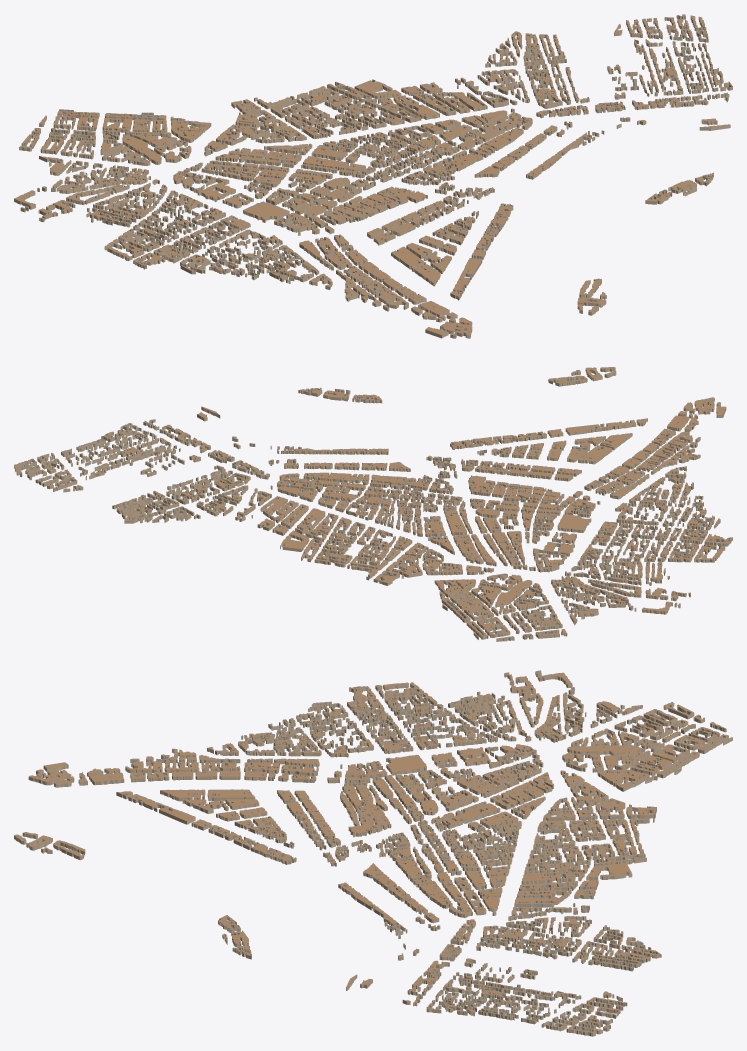
File: rotterdam-v1.glb
The picture shows the model from 3 angles, top to bottom: view 1: azimuth 30°, elevation 25°; view 2: azimuth 150°, elevation 25°; view 3: azimuth 270°, elevation 25°; orthographic projection. The views are drawn at different scales.
Visible parts, largest first — view 1: M0756, M0621, M0301, M0912, M0319, M0750, M0255, M0803, M0393, M0857, M0907, M0924; view 2: M0255, M0756, M0029, M0912, M0301, M0393, M0621, M0319, M0857, M0704; view 3: M0756, M0912, M0621, M0029, M0907, M0319, M0803, M0301, M0561, M0255, M0393, M0857 (+1 smaller).
Part boxes in pixels (x1,y1,x2,y2): M0756: [435, 92, 487, 113]; M0621: [191, 175, 235, 201]; M0301: [424, 152, 483, 177]; M0912: [171, 120, 211, 142]; M0319: [243, 201, 289, 222]; M0750: [89, 168, 148, 189]; M0255: [526, 132, 590, 179]; M0803: [393, 95, 439, 119]; M0393: [477, 127, 523, 155]; M0857: [216, 124, 257, 145]; M0907: [122, 134, 161, 164]; M0924: [354, 80, 401, 99]; M0255: [281, 446, 388, 454]; M0756: [260, 496, 298, 521]; M0029: [565, 420, 636, 435]; M0912: [434, 579, 475, 597]; M0301: [371, 474, 429, 490]; M0393: [303, 472, 363, 483]; M0621: [533, 542, 574, 564]; M0319: [557, 514, 591, 532]; M0857: [422, 561, 462, 575]; M0704: [590, 581, 641, 597]; M0756: [514, 889, 569, 907]; M0912: [597, 769, 649, 791]; M0621: [457, 747, 515, 768]; M0029: [128, 794, 195, 824]; M0907: [567, 745, 645, 755]; M0319: [386, 754, 426, 775]; M0803: [521, 871, 584, 884]; M0301: [388, 845, 422, 879]; M0561: [445, 803, 500, 828]; M0255: [338, 882, 405, 931]; M0393: [413, 878, 452, 908]; M0857: [570, 782, 608, 806].
Bounding box in the file's own units: 2736 × 12 × 2291.
